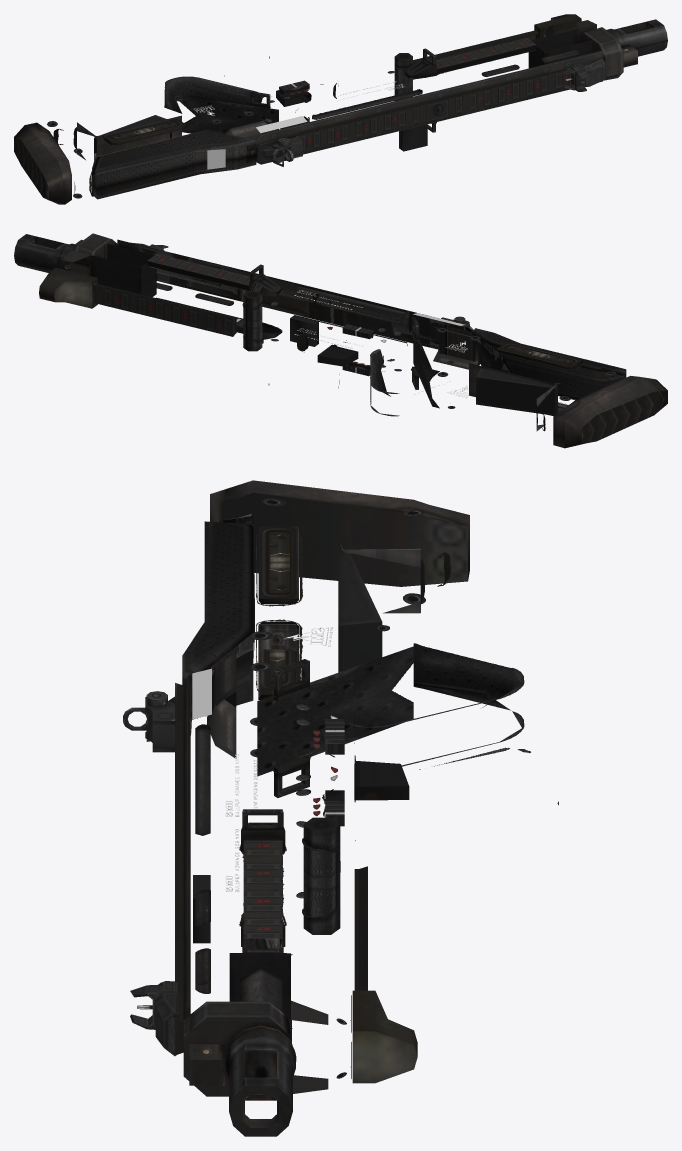
Rendered from t6_wpn_ar_saritch_world_LOD0.obj.
3 renders of one model, top to bottom at view 1: azimuth 30°, elevation 25°; view 2: azimuth 150°, elevation 25°; view 3: azimuth 270°, elevation 25°, orthographic. The views are drawn at different scales.
Visible parts, largest first — view 1: mtl_t6_wpn_ar_saritch, mtl_t6_wpn_ar_saritch_camo1, mtl_t6_wpn_ar_saritch_camo3, mtl_t6_wpn_ar_saritch_camo2, mtl_player_icon_world, mtl_clan_tag_world; view 2: mtl_t6_wpn_ar_saritch, mtl_t6_wpn_ar_saritch_camo1, mtl_t6_wpn_ar_saritch_camo2, mtl_t6_wpn_ar_saritch_camo3; view 3: mtl_t6_wpn_ar_saritch, mtl_t6_wpn_ar_saritch_camo1, mtl_t6_wpn_ar_saritch_camo2, mtl_t6_wpn_ar_saritch_camo3.
Part boxes in pixels (x1,y1,x2,y2): mtl_t6_wpn_ar_saritch: (14, 18, 605, 204); mtl_t6_wpn_ar_saritch_camo1: (53, 20, 654, 196); mtl_t6_wpn_ar_saritch_camo3: (14, 14, 581, 204); mtl_t6_wpn_ar_saritch_camo2: (47, 19, 667, 198); mtl_player_icon_world: (207, 149, 225, 169); mtl_clan_tag_world: (256, 116, 307, 133); mtl_t6_wpn_ar_saritch: (54, 239, 667, 448); mtl_t6_wpn_ar_saritch_camo1: (27, 236, 582, 431); mtl_t6_wpn_ar_saritch_camo2: (14, 233, 625, 415); mtl_t6_wpn_ar_saritch_camo3: (39, 265, 667, 448); mtl_t6_wpn_ar_saritch: (123, 480, 558, 1083); mtl_t6_wpn_ar_saritch_camo1: (183, 515, 450, 1136); mtl_t6_wpn_ar_saritch_camo2: (183, 491, 425, 1112); mtl_t6_wpn_ar_saritch_camo3: (146, 483, 530, 1056).
Size of the model in its own units: 81.82 by 9.59 by 24.87.
